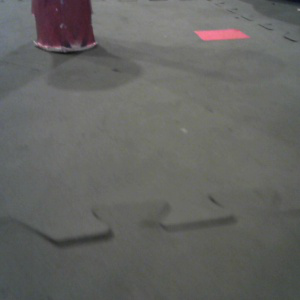middle: (27, 1, 99, 55)
